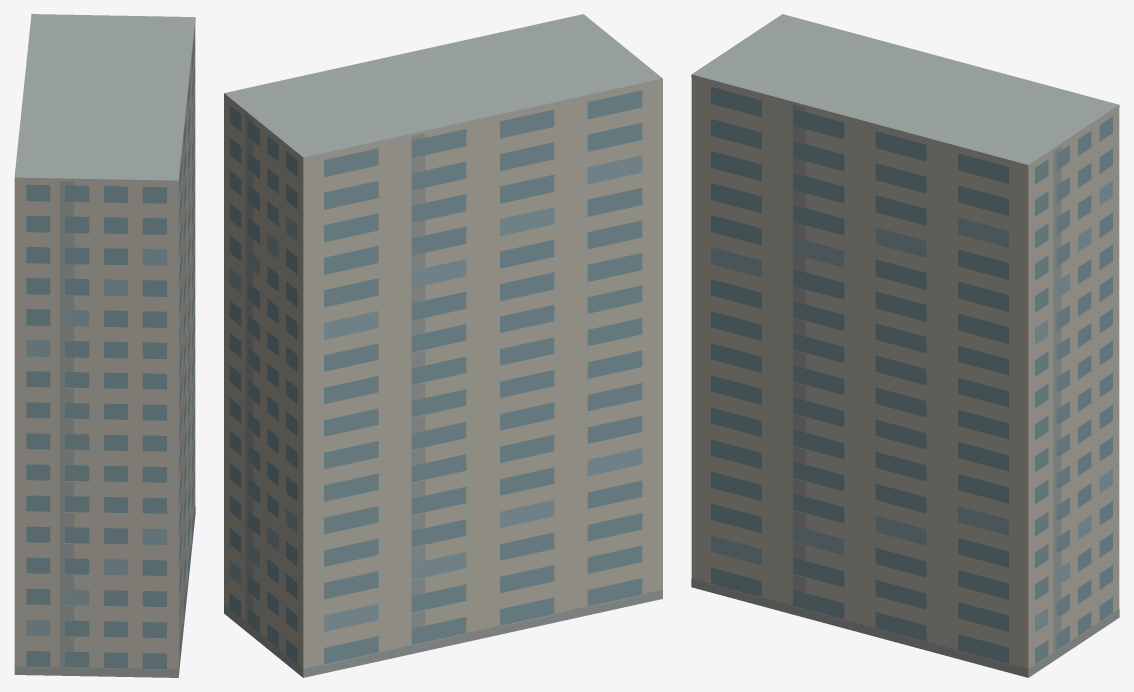
The model's file is residential-7376ebd3-4138-4f27-a952-66c12ab320dd.glb.
The picture shows the model from 3 angles, left to right: view 1: azimuth 30°, elevation 25°; view 2: azimuth 150°, elevation 25°; view 3: azimuth 270°, elevation 25°; orthographic projection. The views are drawn at different scales.
Visible parts, largest first — view 1: residential-7376ebd3-4138-4f27-a952-66c12ab320dd.tmp; view 2: residential-7376ebd3-4138-4f27-a952-66c12ab320dd.tmp; view 3: residential-7376ebd3-4138-4f27-a952-66c12ab320dd.tmp.
Part boxes in pixels (box(x1,y1,x2,y2)): residential-7376ebd3-4138-4f27-a952-66c12ab320dd.tmp: box(14, 14, 195, 677); residential-7376ebd3-4138-4f27-a952-66c12ab320dd.tmp: box(224, 14, 662, 677); residential-7376ebd3-4138-4f27-a952-66c12ab320dd.tmp: box(691, 14, 1119, 677).
Bounding box in the file's own units: 27.8 × 44 × 33.28.
